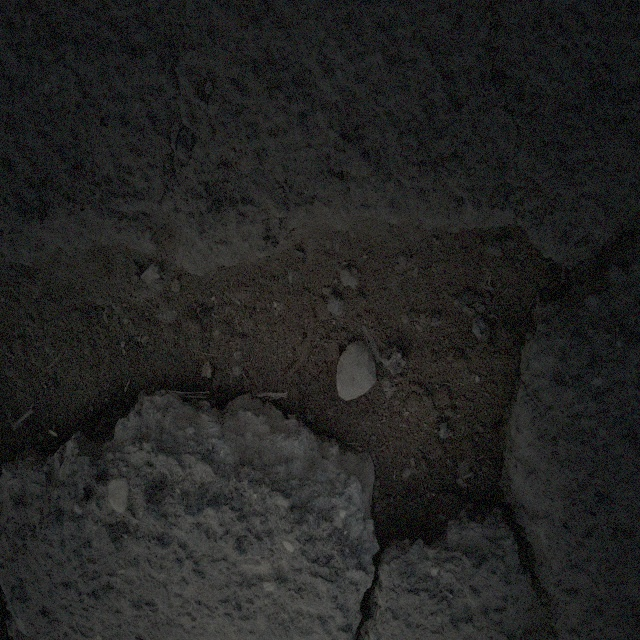pothole: (16, 177, 534, 550)
